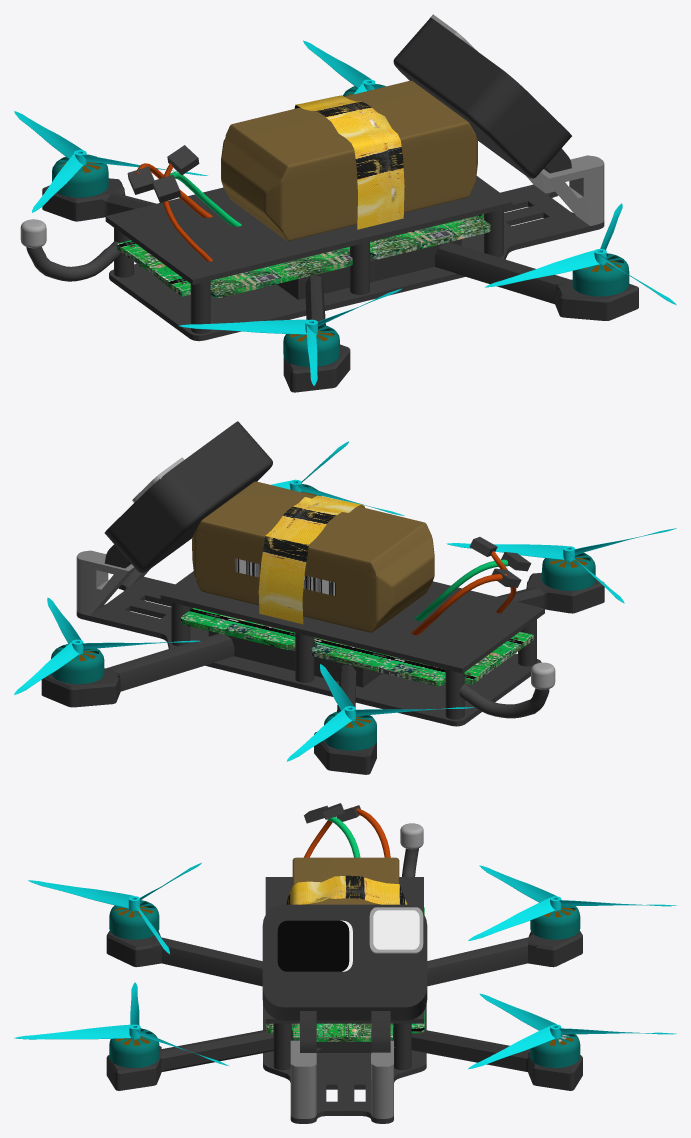
The model's file is drone5.fbx.
The picture shows the model from 3 angles, top to bottom: view 1: azimuth 30°, elevation 25°; view 2: azimuth 150°, elevation 25°; view 3: azimuth 270°, elevation 25°; orthographic projection. The views are drawn at different scales.
Parts seen in each view (by area): view 1: Drone, Propeller4, Propeller1, Propeller2, Propeller3; view 2: Drone, Propeller3, Propeller1, Propeller4, Propeller2; view 3: Drone, Propeller3, Propeller1, Propeller2, Propeller4.
Boxes of the visible parts, x1,y1,x2,y2 form: Drone: (20,14,638,392); Propeller4: (178,288,402,385); Propeller1: (14,111,207,212); Propeller2: (485,203,676,305); Propeller3: (303,40,384,94); Drone: (41,421,604,774); Propeller3: (14,597,201,694); Propeller1: (286,664,474,761); Propeller4: (446,528,676,603); Propeller2: (271,441,404,515); Drone: (106,803,582,1123); Propeller3: (468,993,676,1069); Propeller1: (468,865,676,940); Propeller2: (14,982,228,1065); Propeller4: (28,862,201,954).
Bounding box in the file's own units: 5.1 × 1.76 × 6.21.
19 materials, 3 textured.
